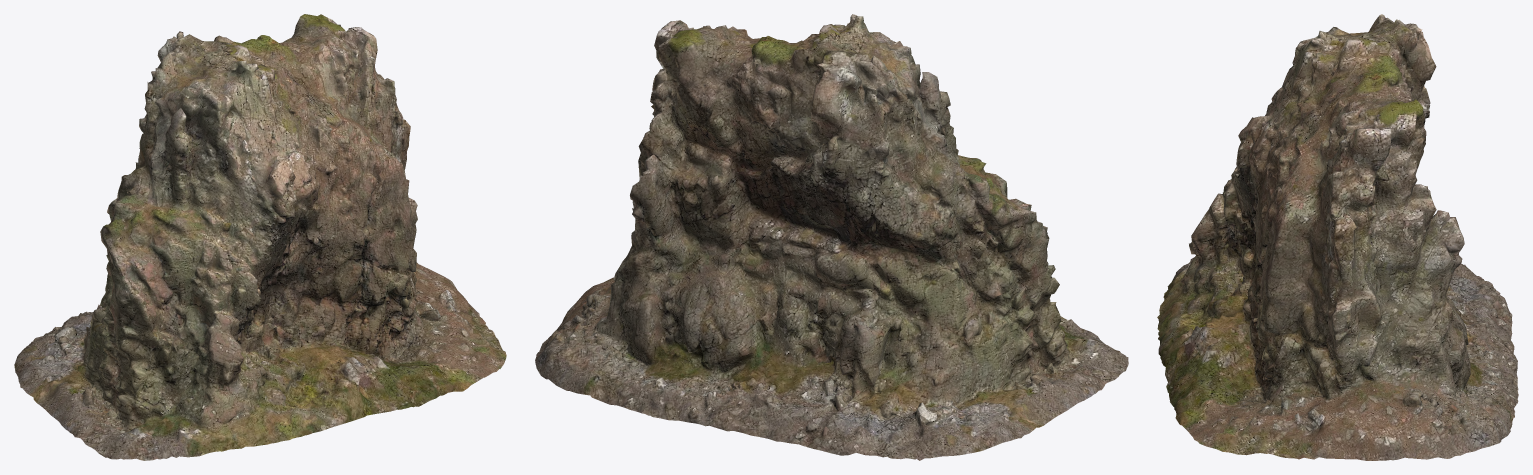
File: coast_cliff.glb
The picture shows the model from 3 angles, left to right: view 1: azimuth 30°, elevation 25°; view 2: azimuth 150°, elevation 25°; view 3: azimuth 270°, elevation 25°; orthographic projection. The views are drawn at different scales.
Visible parts, largest first — view 1: coastCliff_S_Massive_Nordic_Coastal_Cliff_vdssailfa_lod0_Var; view 2: coastCliff_S_Massive_Nordic_Coastal_Cliff_vdssailfa_lod0_Var; view 3: coastCliff_S_Massive_Nordic_Coastal_Cliff_vdssailfa_lod0_Var.
Boxes of the visible parts, x1,y1,x2,y2 form: coastCliff_S_Massive_Nordic_Coastal_Cliff_vdssailfa_lod0_Var: (14,14,506,460); coastCliff_S_Massive_Nordic_Coastal_Cliff_vdssailfa_lod0_Var: (535,14,1128,460); coastCliff_S_Massive_Nordic_Coastal_Cliff_vdssailfa_lod0_Var: (1157,14,1518,460).
Size of the model in its own units: 33.82 by 23.78 by 24.42.
Materials: 1 (1 with a texture image).
